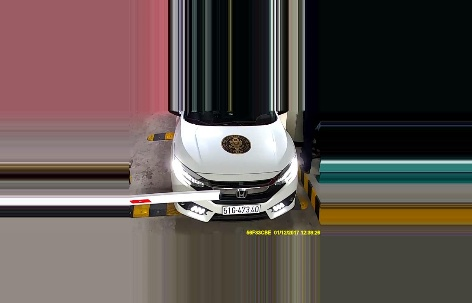plate: (222, 203, 262, 215)
